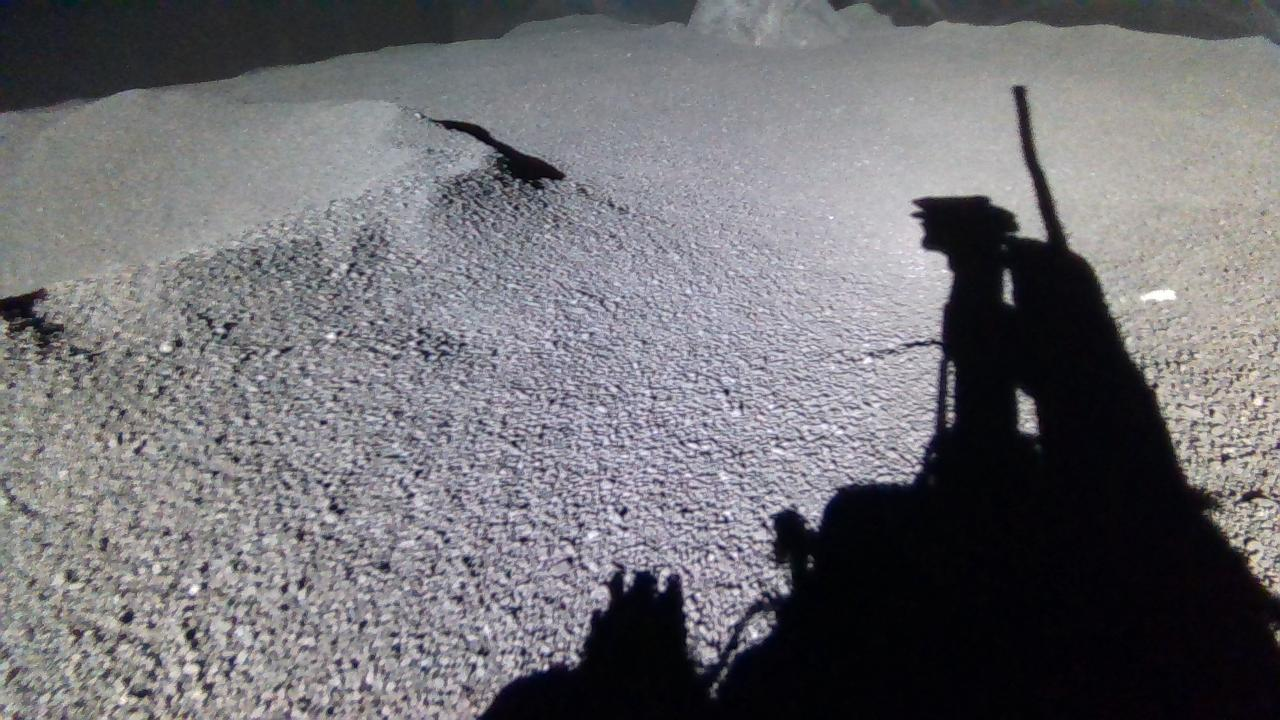rock: (689, 0, 850, 46)
